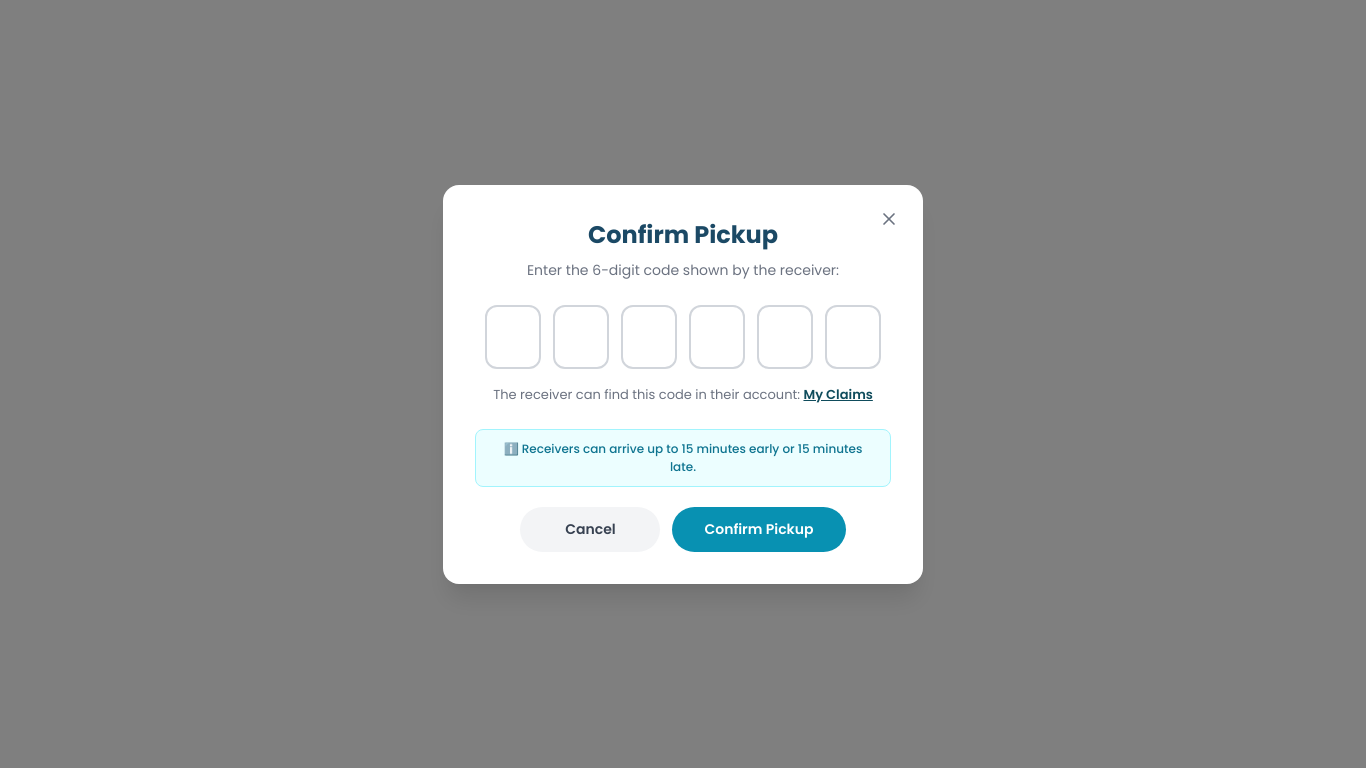
Test: ConfirmPickupModal › shows error when submitting incomplete code
The image size is (1366, 768).
Type "1" into the 1st field at (513, 336), box [485,304,541,368]
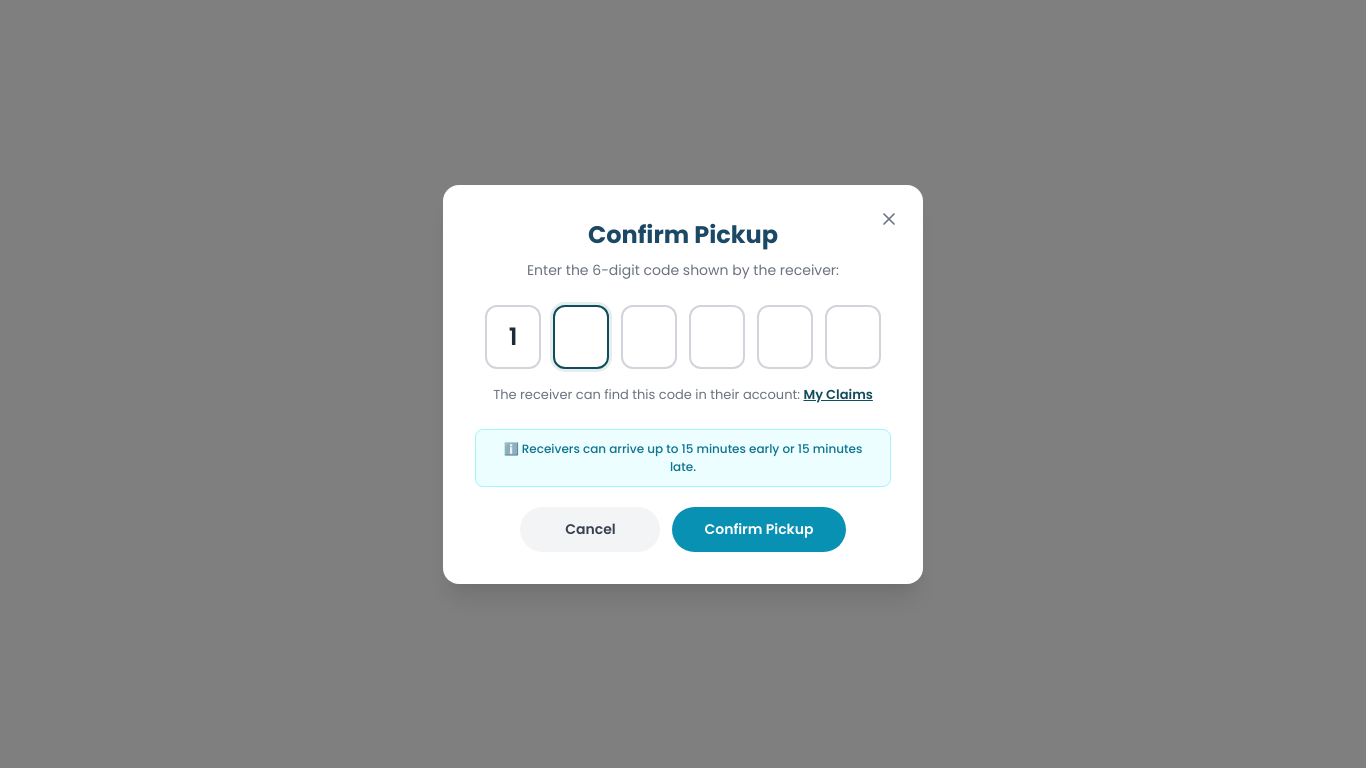
Type "2" into the 2nd field at (581, 336), box [553,304,609,368]
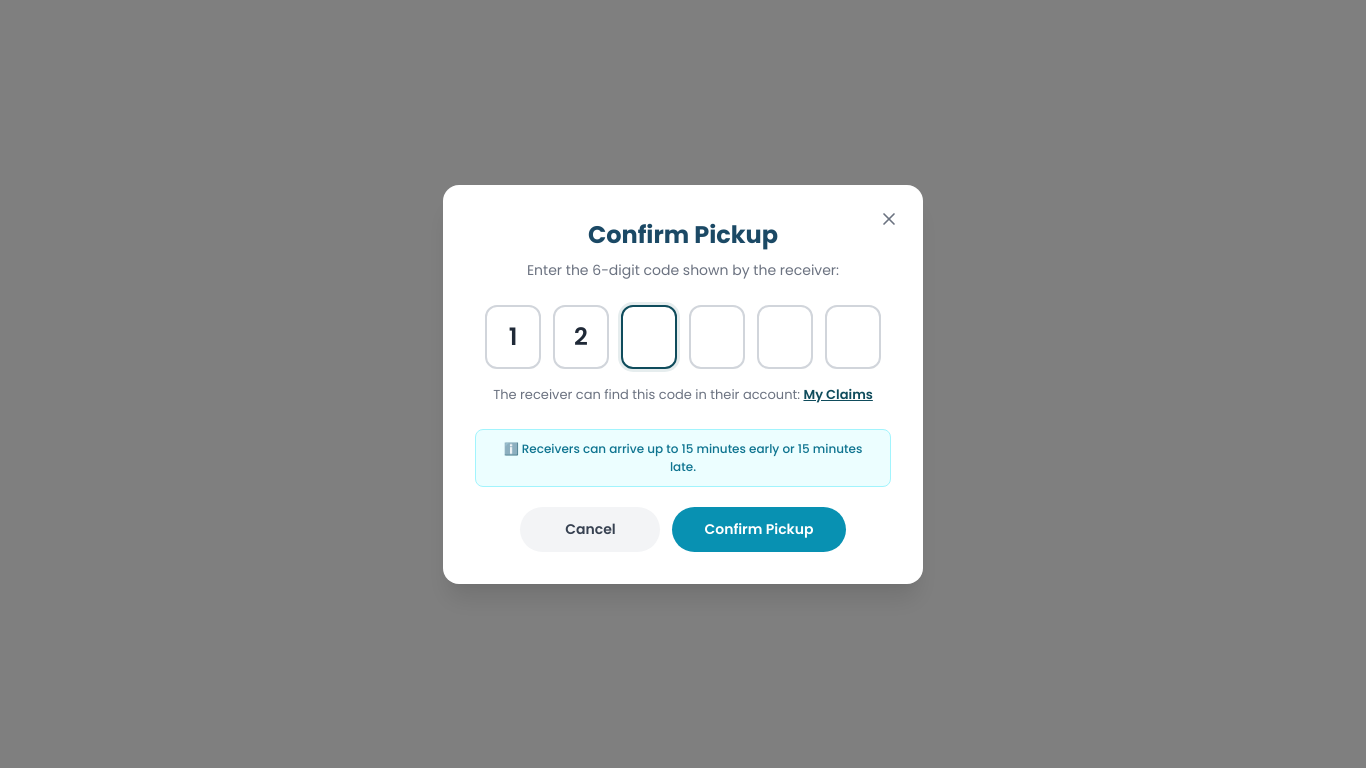
Click the button "Confirm Pickup" at (759, 529), box [672,506,846,552]
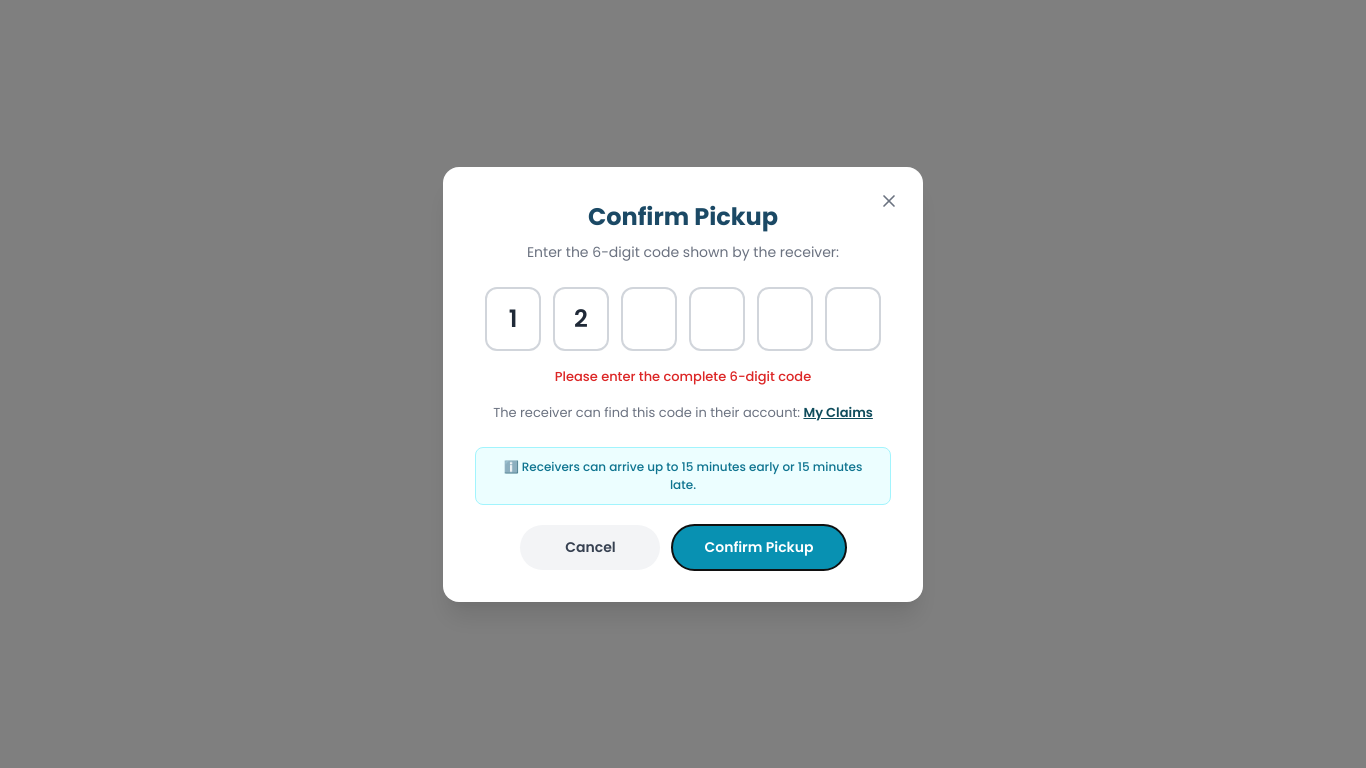
Expected: the text "Please enter the complete 6-digit code" is shown, [555,366,811,386]
